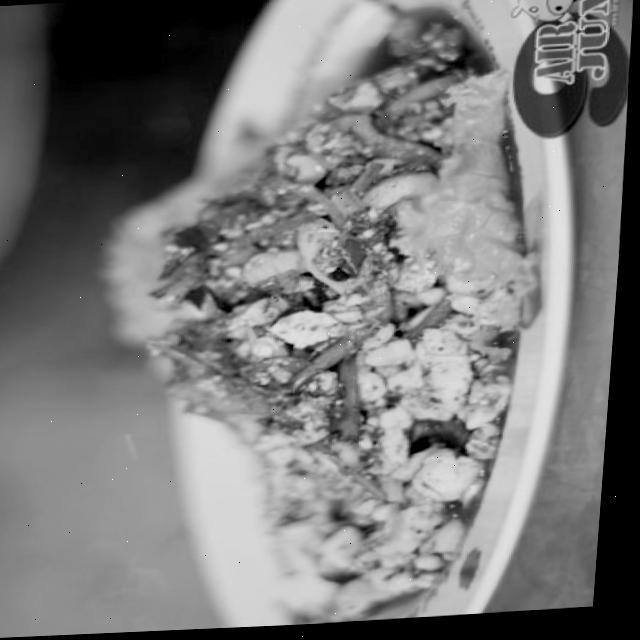鸡肉料理 含炸鸡: (22, 27, 568, 618)
